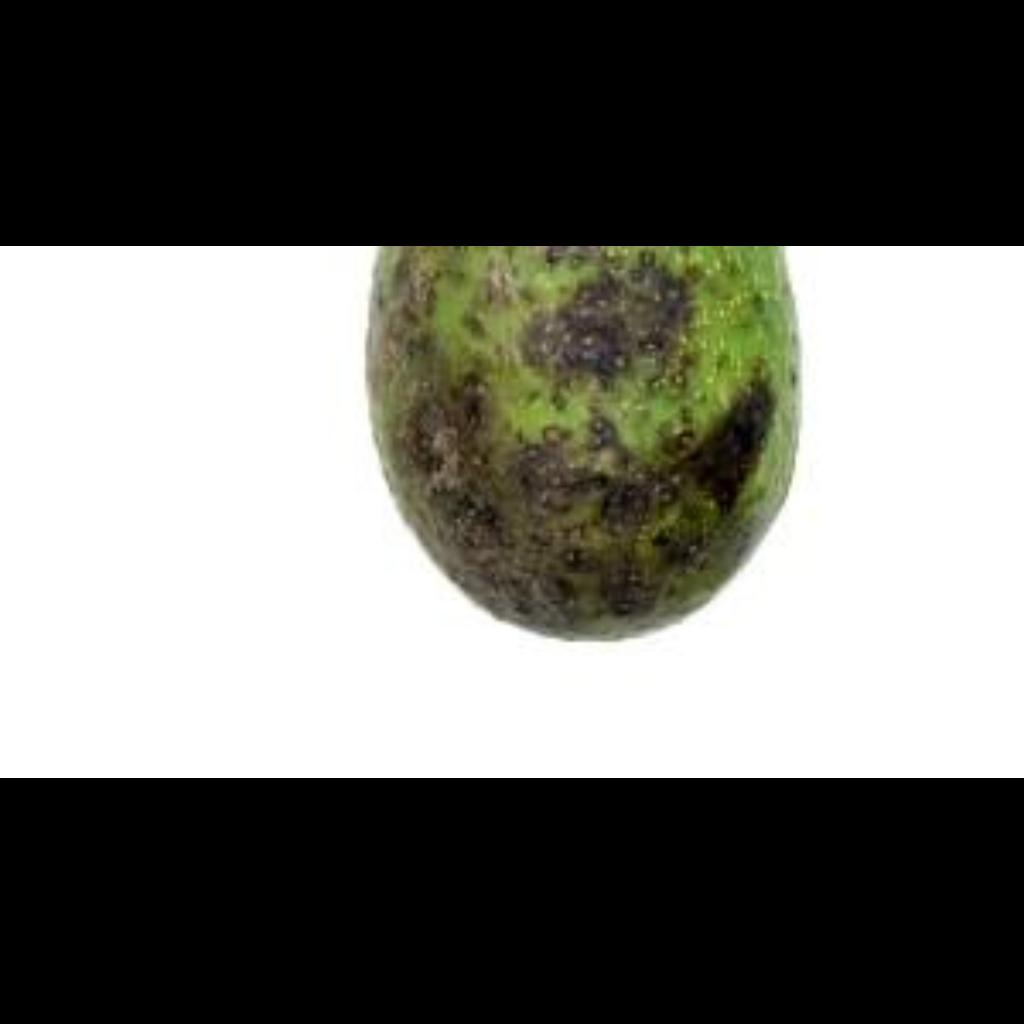Anthracnose: (364, 253, 796, 611)
